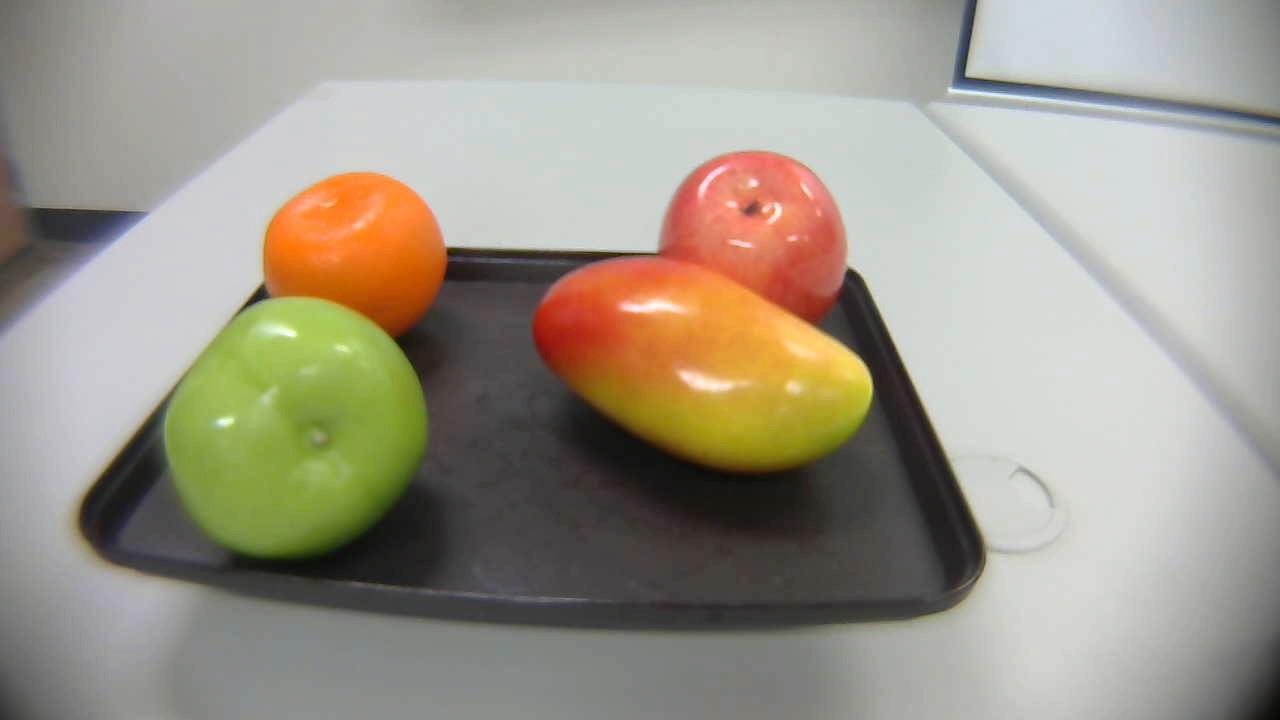green pear: (157, 294, 432, 563)
orange: (257, 168, 453, 329)
red apple: (652, 151, 855, 331)
red mango: (530, 256, 880, 494)
